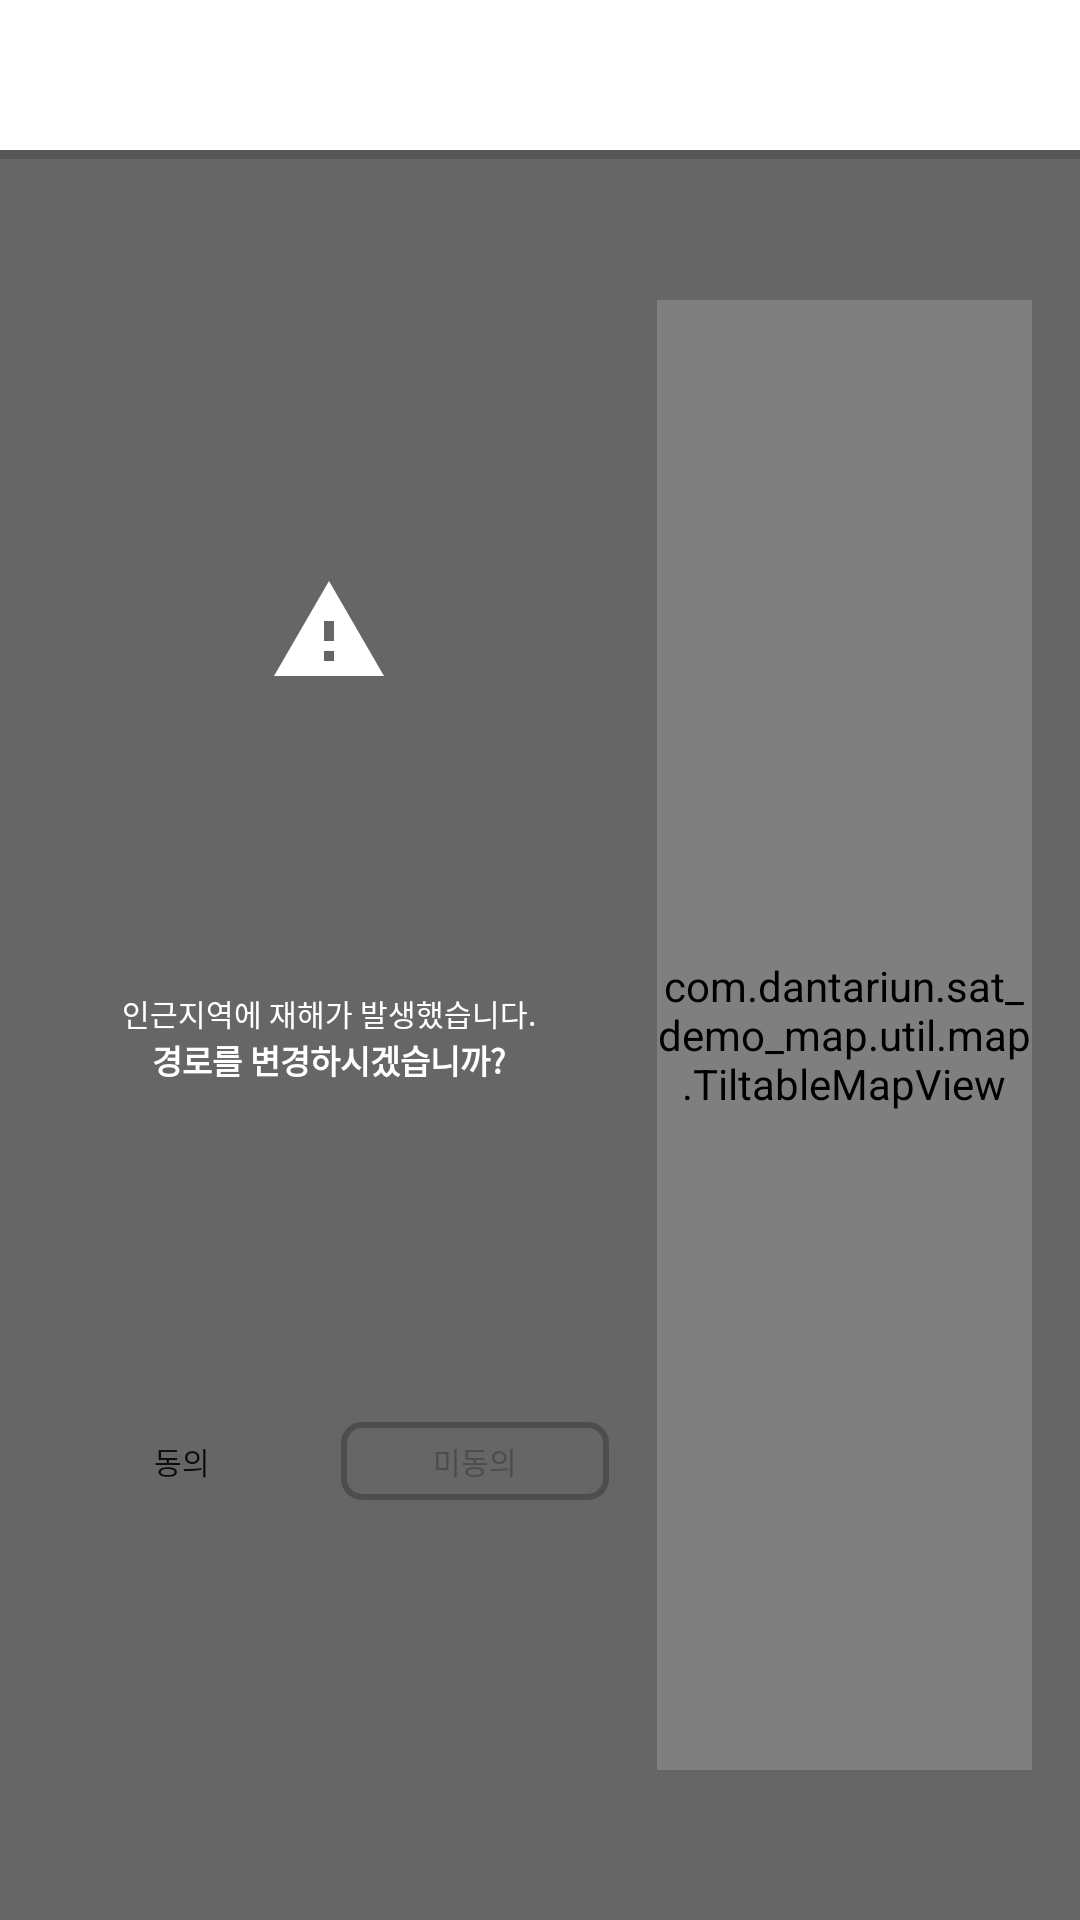

Screen size 1080px×1920px. Icon name, then its box in pixels as (x1, y1, x2, y2):
warning: (274, 581, 384, 676)
